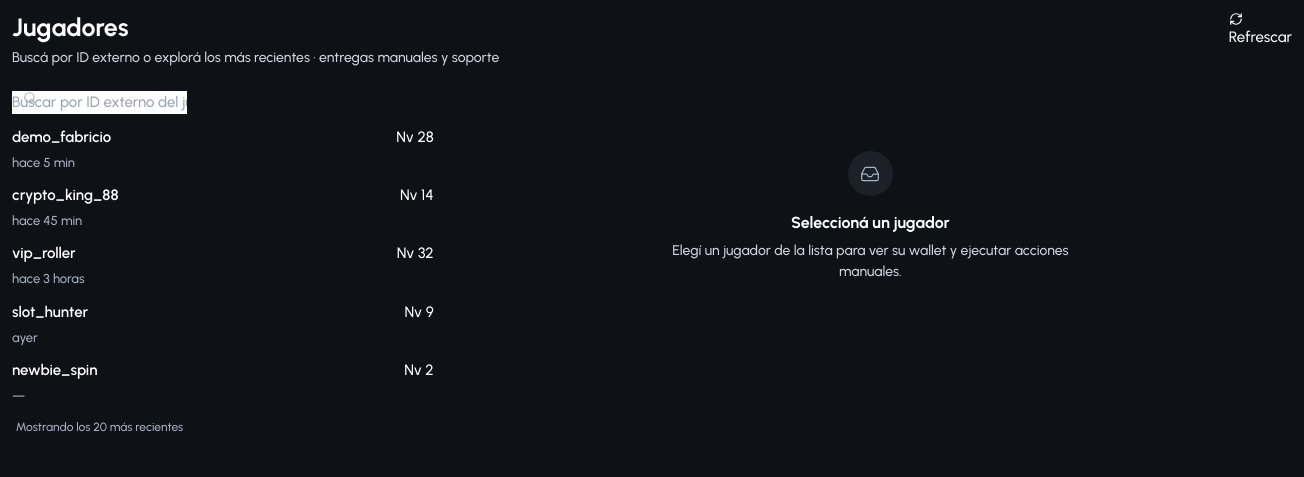
Test: PlayersPage › lista jugadores y abre detalle con wallet
Click the text "demo_fabricio": [62, 137] box [12,126,111,149]
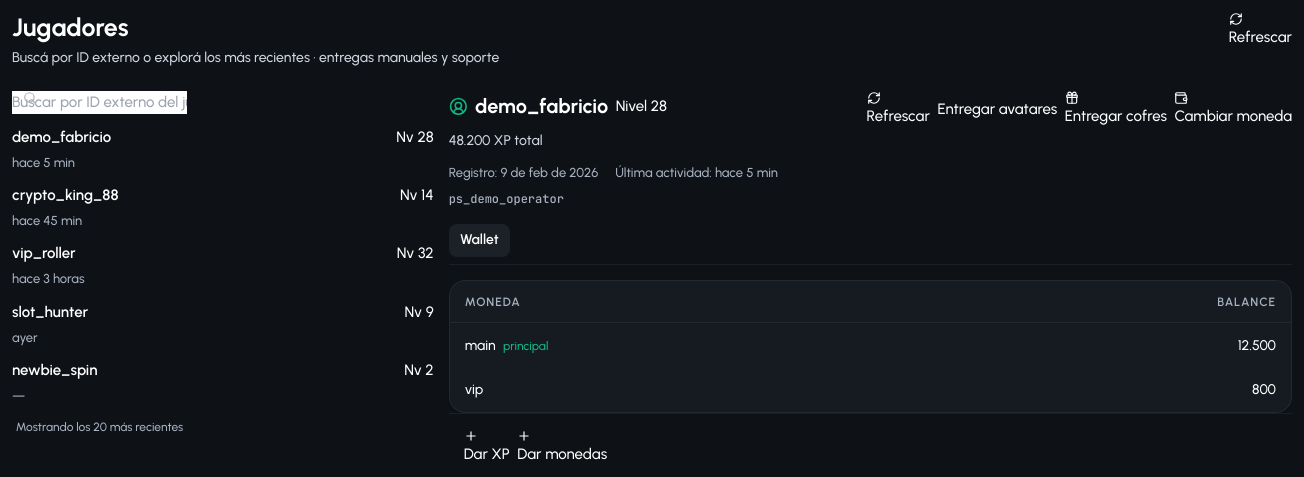
Expected: the button "Wallet" is shown, [449,224,510,257]
Expected: the text "12.500" is shown, [922,323,1291,368]
